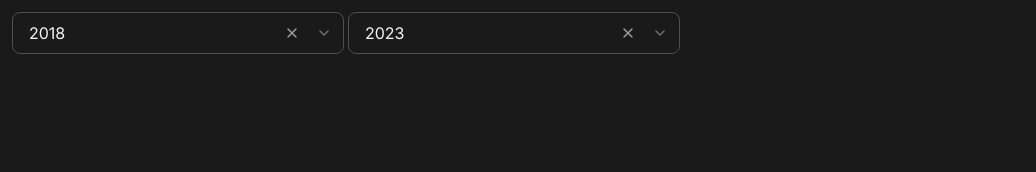
it: YearRangePicker Component › Year Range Coordination › should update to min when from value changes
Focus the 2nd field with placeholder "To year": coordinates (514, 33) [348,12,680,54]
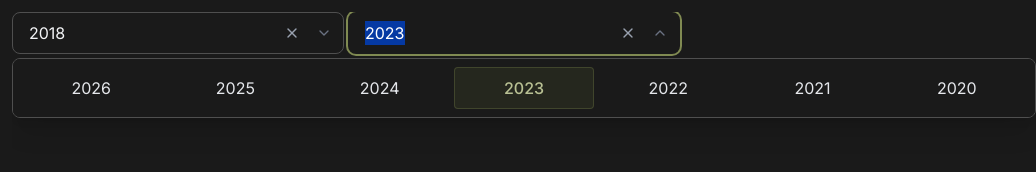
Expected: the button "2020" is shown, [887,67,1027,109]
